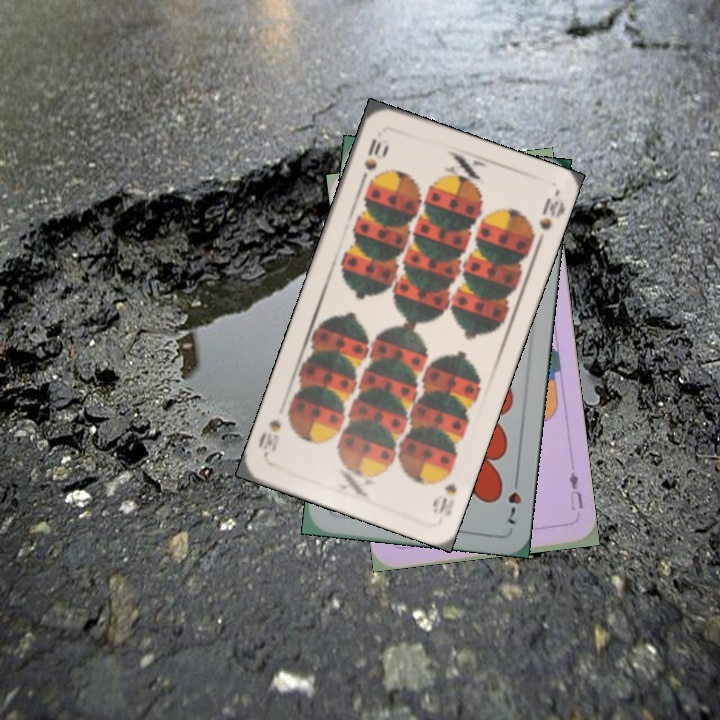EU: (565, 468, 586, 513)
H7: (503, 470, 524, 527)
S10: (428, 462, 460, 519), (357, 134, 389, 185)
